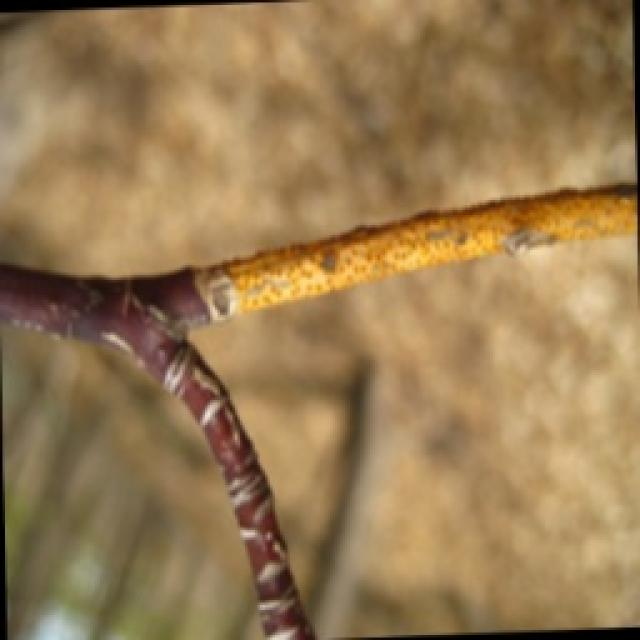Golden_canker: (190, 180, 638, 325)
